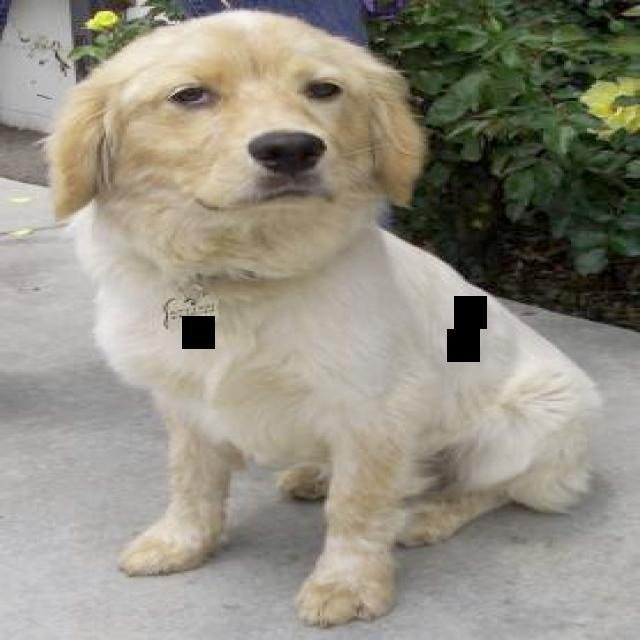adult_dog: (42, 5, 600, 630)
